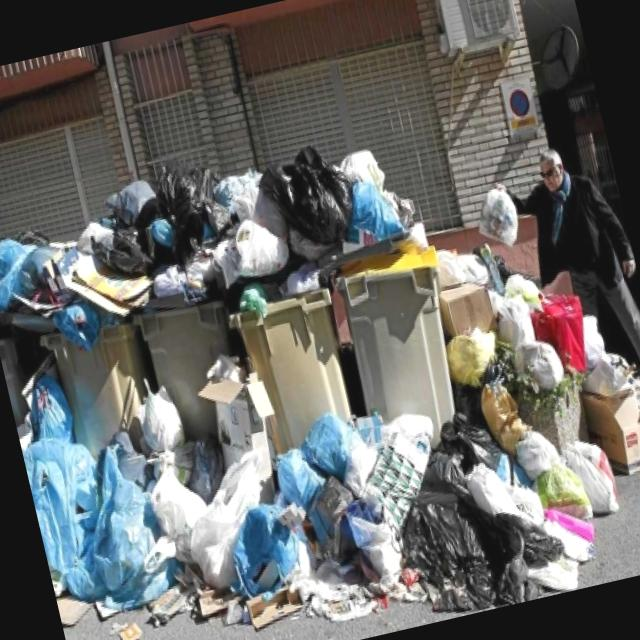garbage: (0, 110, 496, 640), (415, 226, 640, 608)
